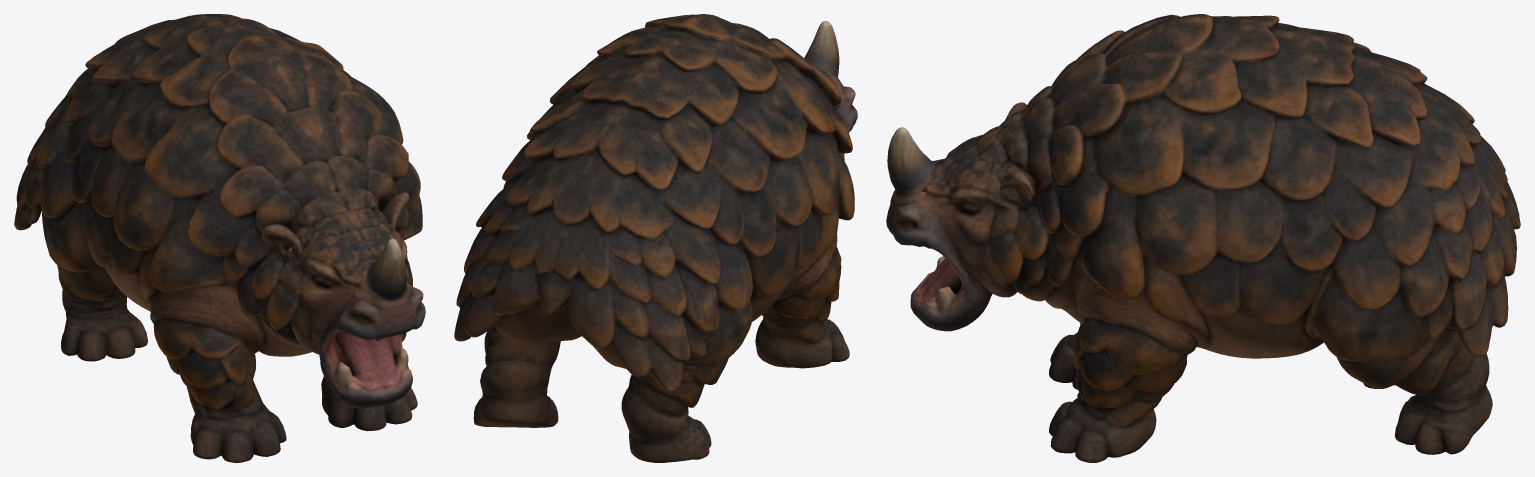
The model's file is generation_beast_1.glb.
3 views of the same model, side by side, from view 1: azimuth 30°, elevation 25°; view 2: azimuth 150°, elevation 25°; view 3: azimuth 270°, elevation 25° (orthographic). The views are drawn at different scales.
Parts seen in each view (by area): view 1: geometry_0; view 2: geometry_0; view 3: geometry_0.
Part boxes in pixels (x1=…): geometry_0: x1=14, y1=14, x2=425, y2=462; geometry_0: x1=454, y1=14, x2=857, y2=462; geometry_0: x1=886, y1=14, x2=1520, y2=462.
Size of the model in its own units: 0.5525 by 0.6772 by 1.
1 material, 1 textured.
